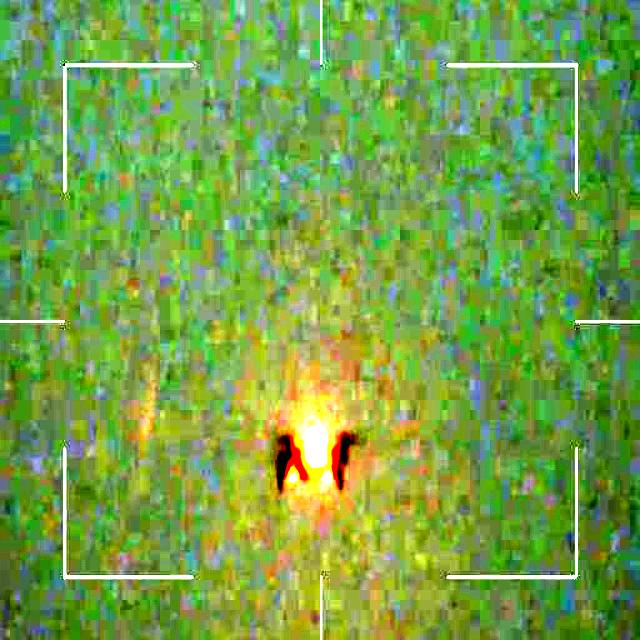bird: (272, 415, 361, 489)
